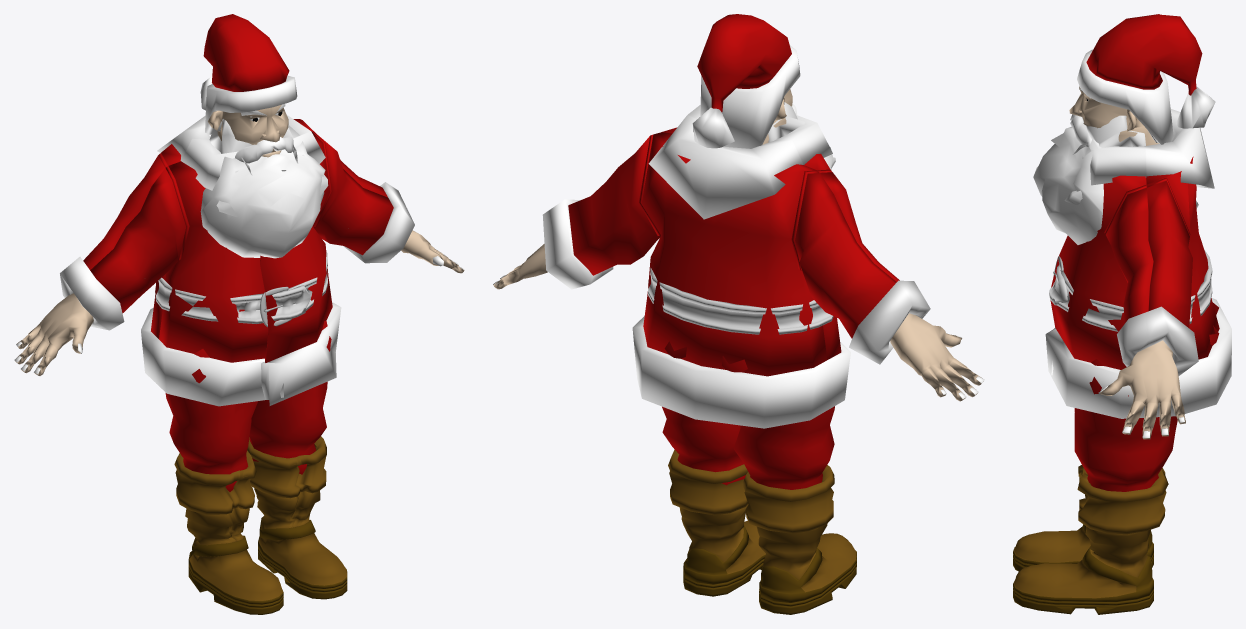
The model's file is santa_static.fbx.
3 views of the same model, side by side, from view 1: azimuth 30°, elevation 25°; view 2: azimuth 150°, elevation 25°; view 3: azimuth 270°, elevation 25° (orthographic). The views are drawn at different scales.
Visible parts, largest first — view 1: group_Default, group_White, group_boots, group_barbes, group_pantalon, group_boots_semelle, group_main, group_Ceinturon, group_man; view 2: group_Default, group_White, group_boots, group_pantalon, group_boots_semelle, group_main, group_Ceinturon, group_barbes; view 3: group_Default, group_White, group_boots, group_barbes, group_pantalon, group_main, group_boots_semelle, group_Ceinturon, group_man.
Boxes of the visible parts, left/top/right/bottom form: group_Default: left=83, top=14, right=393, bottom=362; group_White: left=60, top=75, right=414, bottom=406; group_boots: left=174, top=436, right=346, bottom=600; group_barbes: left=200, top=104, right=328, bottom=258; group_pantalon: left=165, top=321, right=331, bottom=491; group_boots_semelle: left=188, top=516, right=347, bottom=614; group_main: left=15, top=230, right=464, bottom=375; group_Ceinturon: left=155, top=252, right=327, bottom=323; group_man: left=208, top=104, right=348, bottom=228; group_Default: left=568, top=14, right=899, bottom=376; group_White: left=542, top=45, right=930, bottom=428; group_boots: left=668, top=449, right=856, bottom=592; group_pantalon: left=662, top=341, right=834, bottom=489; group_boots_semelle: left=683, top=525, right=856, bottom=614; group_main: left=493, top=243, right=983, bottom=401; group_Ceinturon: left=648, top=267, right=833, bottom=334; group_barbes: left=768, top=102, right=835, bottom=169; group_Default: left=1050, top=14, right=1219, bottom=369; group_White: left=1045, top=49, right=1231, bottom=418; group_boots: left=1014, top=465, right=1168, bottom=598; group_barbes: left=1033, top=89, right=1145, bottom=244; group_pantalon: left=1074, top=302, right=1219, bottom=491; group_main: left=1099, top=340, right=1185, bottom=439; group_boots_semelle: left=1013, top=524, right=1153, bottom=614; group_Ceinturon: left=1049, top=250, right=1212, bottom=331; group_man: left=1069, top=86, right=1159, bottom=145.
Bounding box in the file's own units: 1.79 × 2.1 × 0.7374.
